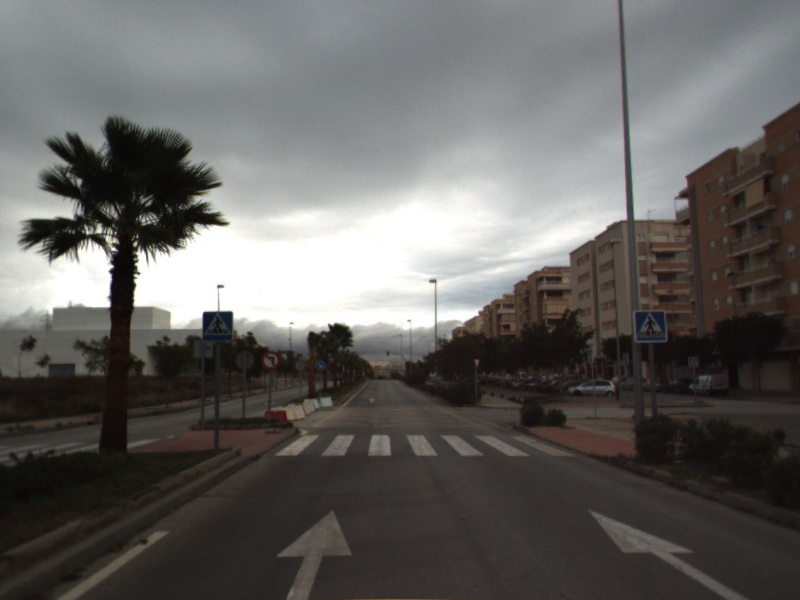STRAIGHT: (586, 507, 753, 600), (275, 507, 355, 600)
